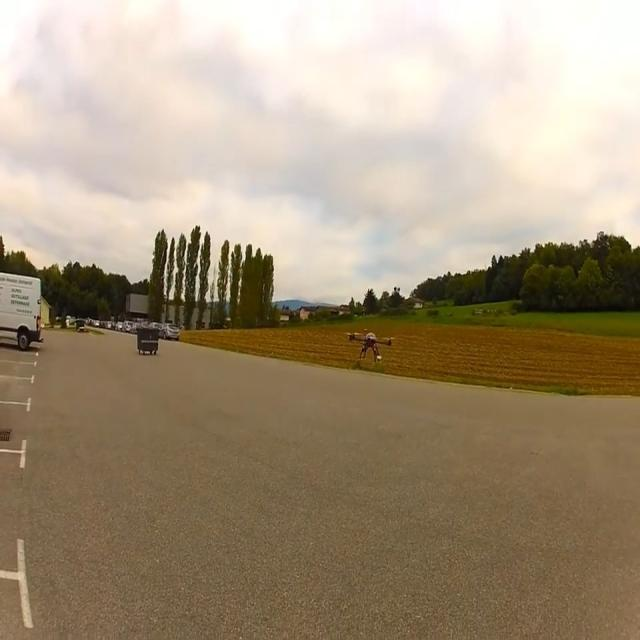drone: (345, 327, 393, 362)
